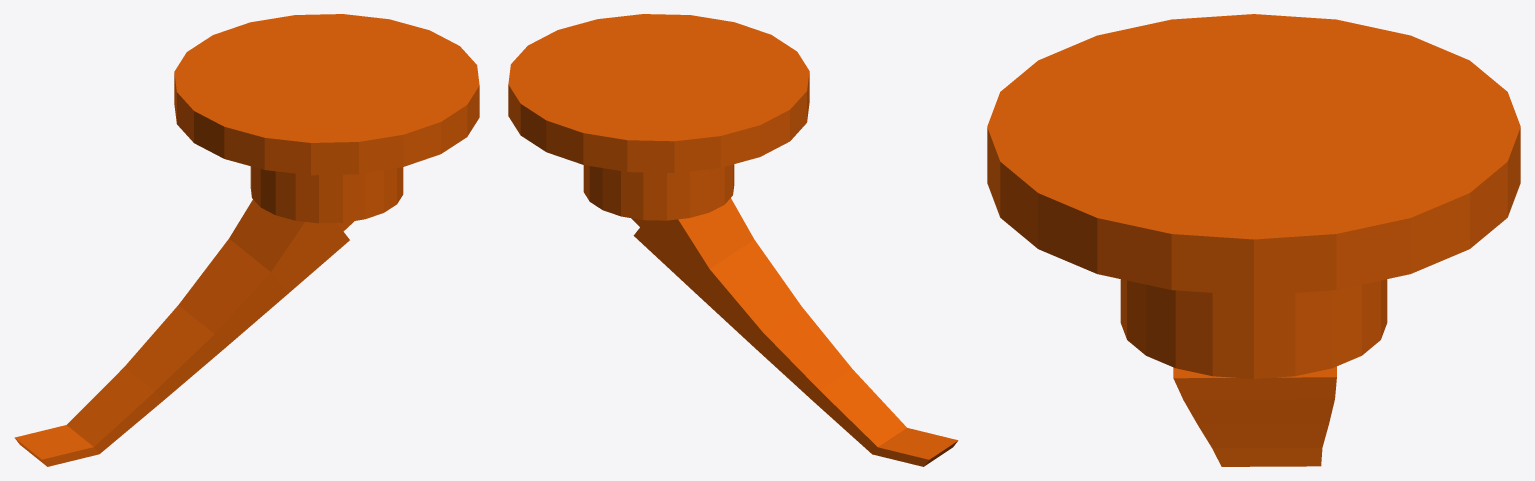
3 renders of one model, left to right at view 1: azimuth 30°, elevation 25°; view 2: azimuth 150°, elevation 25°; view 3: azimuth 270°, elevation 25°, orthographic. The views are drawn at different scales.
Visible parts, largest first — view 1: pCube9; view 2: pCube9; view 3: pCube9.
Boxes of the visible parts, left/top/right/bottom form: pCube9: left=14, top=14, right=479, bottom=466; pCube9: left=508, top=14, right=958, bottom=466; pCube9: left=987, top=14, right=1520, bottom=466.
Size of the model in its own units: 3.22 by 2.24 by 2.
